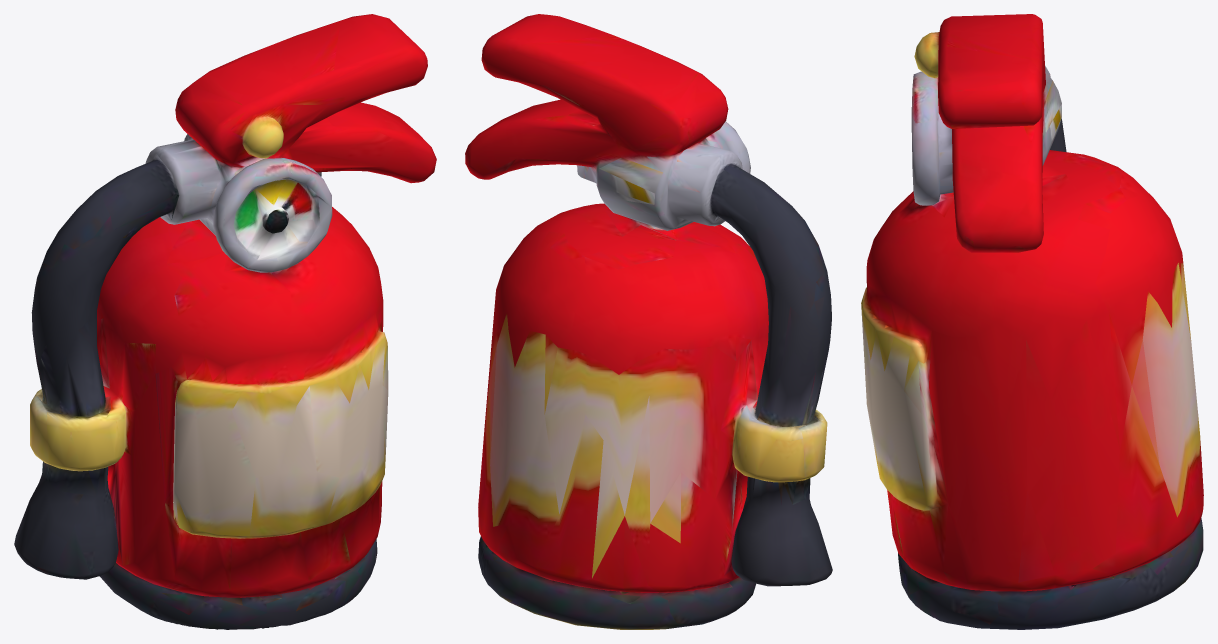
File: prop_ext.glb
3 views of the same model, side by side, from view 1: azimuth 30°, elevation 25°; view 2: azimuth 150°, elevation 25°; view 3: azimuth 270°, elevation 25° (orthographic). The views are drawn at different scales.
Visible parts, largest first — view 1: Mesh_0; view 2: Mesh_0; view 3: Mesh_0.
Boxes of the visible parts, box(x1,y1,x2,y2) form: Mesh_0: box(14, 14, 436, 629); Mesh_0: box(465, 14, 832, 629); Mesh_0: box(861, 14, 1203, 629).
Size of the model in its own units: 0.5542 by 0.75 by 0.4052.
Materials: 1 (1 with a texture image).
